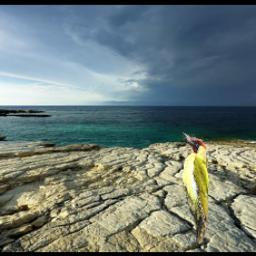Woodpecker: (178, 132, 210, 244)
